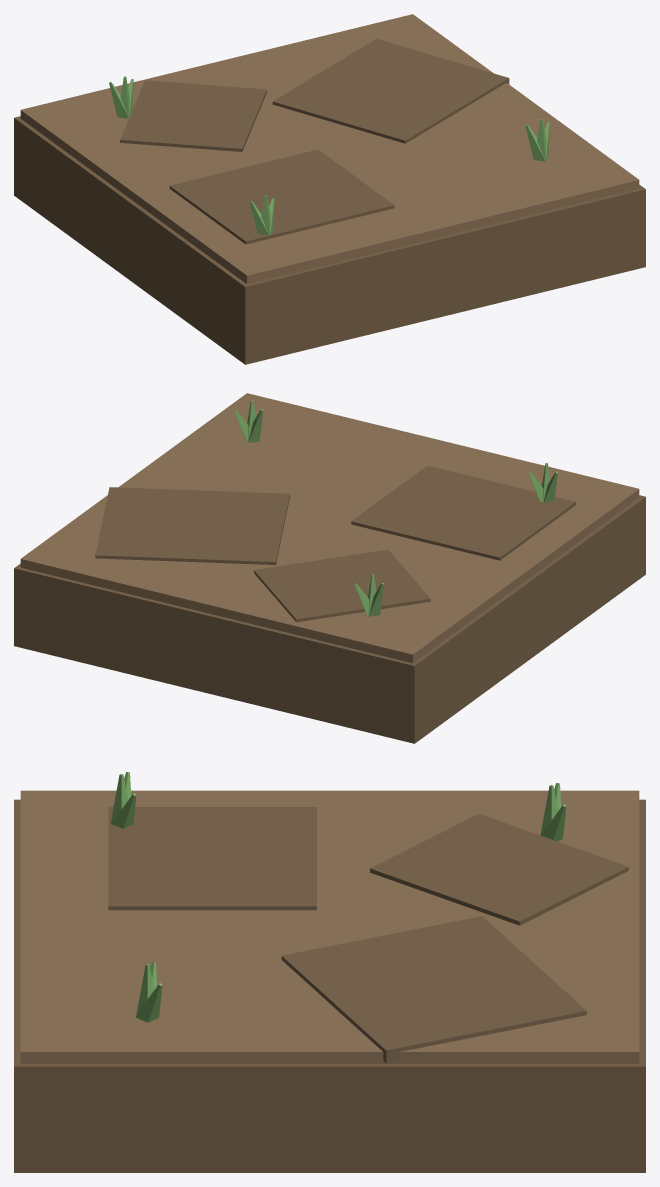
File: tile_dirt.glb
3 renders of one model, top to bottom at view 1: azimuth 30°, elevation 25°; view 2: azimuth 150°, elevation 25°; view 3: azimuth 270°, elevation 25°, orthographic. The views are drawn at different scales.
Visible parts, largest first — view 1: TileDirt; view 2: TileDirt; view 3: TileDirt.
Part boxes in pixels (x1,y1,x2,y2): TileDirt: (14,14,645,364); TileDirt: (14,393,645,743); TileDirt: (14,772,645,1172).
Size of the model in its own units: 0.97 by 0.29 by 0.97.
